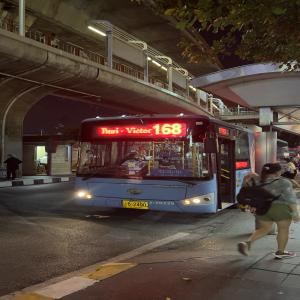BMTA-bus: (70, 114, 253, 215)
Bus Line Number: (151, 122, 185, 136)
Bus Side Number: (148, 200, 177, 206)
Destination Sign: (152, 168, 191, 176)
